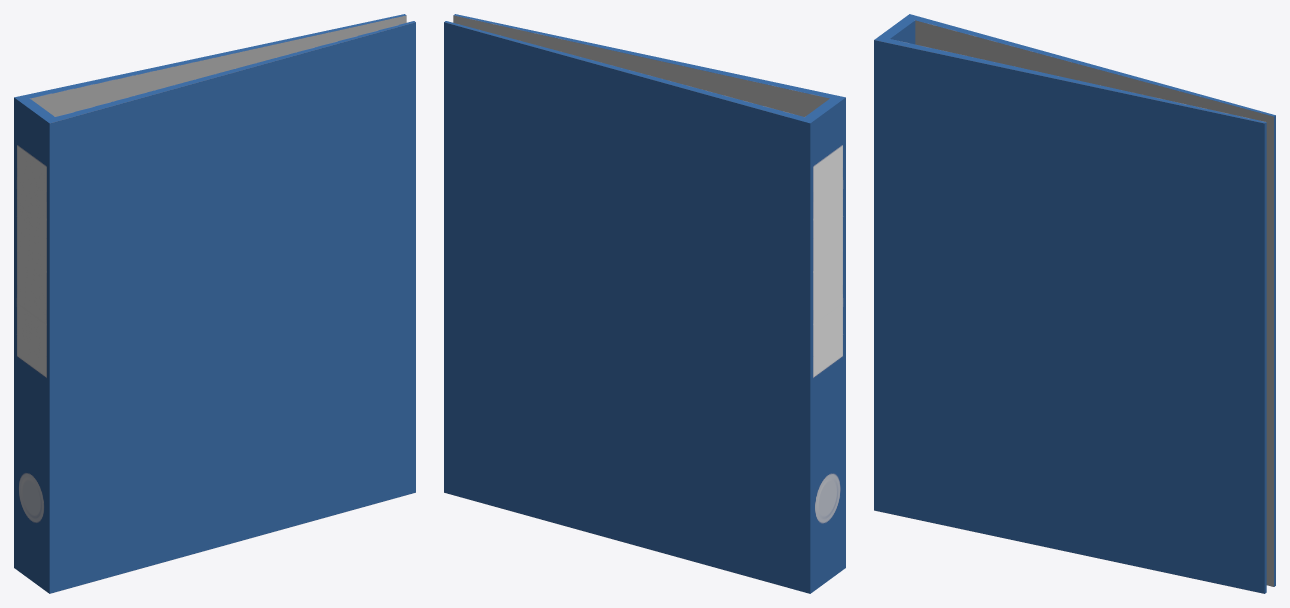
Rendered from ArchFolderBlue.fbx.
3 views of the same model, side by side, from view 1: azimuth 30°, elevation 25°; view 2: azimuth 150°, elevation 25°; view 3: azimuth 330°, elevation 25° (orthographic).
Parts seen in each view (by area): view 1: Arch Folder Blue; view 2: Arch Folder Blue; view 3: Arch Folder Blue.
Boxes of the visible parts, box(x1,y1,x2,y2) form: Arch Folder Blue: box(14, 14, 415, 593); Arch Folder Blue: box(444, 14, 845, 593); Arch Folder Blue: box(874, 14, 1275, 593).
Bounding box in the file's own units: 13.69 × 16.27 × 2.23.
1 material, 1 textured.
